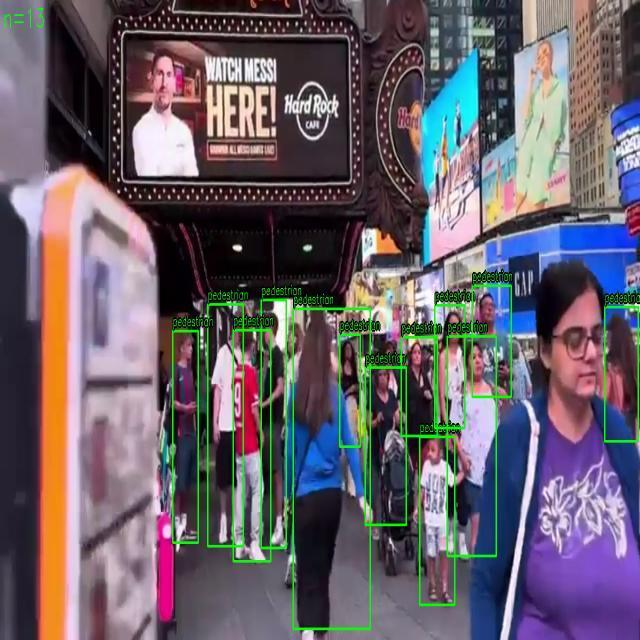person: (293, 308, 371, 630), (447, 336, 497, 556), (233, 330, 271, 562), (208, 304, 244, 547), (365, 367, 407, 525), (261, 300, 287, 548), (420, 437, 454, 606), (172, 331, 198, 544), (604, 306, 638, 442), (472, 286, 512, 398), (434, 305, 466, 428), (400, 336, 438, 436), (340, 334, 360, 447)
